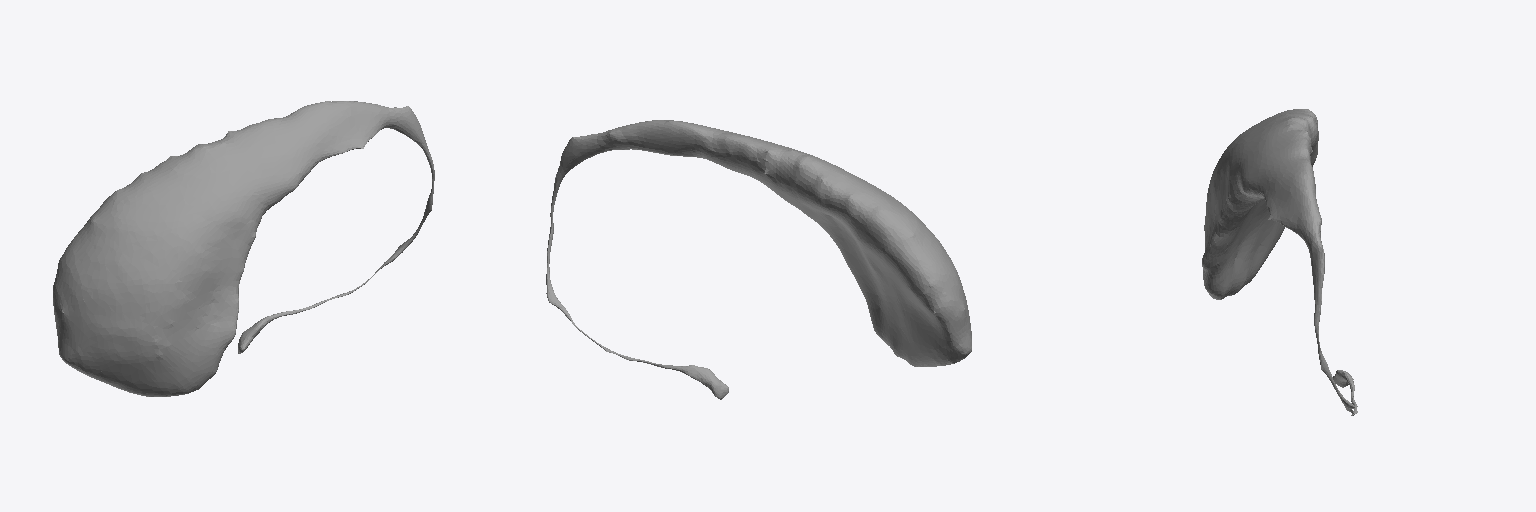
Rendered from R-Caudate.obj.
3 views of the same model, side by side, from view 1: azimuth 30°, elevation 25°; view 2: azimuth 150°, elevation 25°; view 3: azimuth 270°, elevation 25° (orthographic).
Visible parts, largest first — view 1: R-caudate_RIGHT-caudate; view 2: R-caudate_RIGHT-caudate; view 3: R-caudate_RIGHT-caudate.
Boxes of the visible parts, box(x1,y1,x2,y2) form: R-caudate_RIGHT-caudate: box(53, 101, 434, 396); R-caudate_RIGHT-caudate: box(546, 120, 971, 399); R-caudate_RIGHT-caudate: box(1202, 109, 1357, 415).
Bounding box in the file's own units: 88.84 × 53.43 × 30.44.